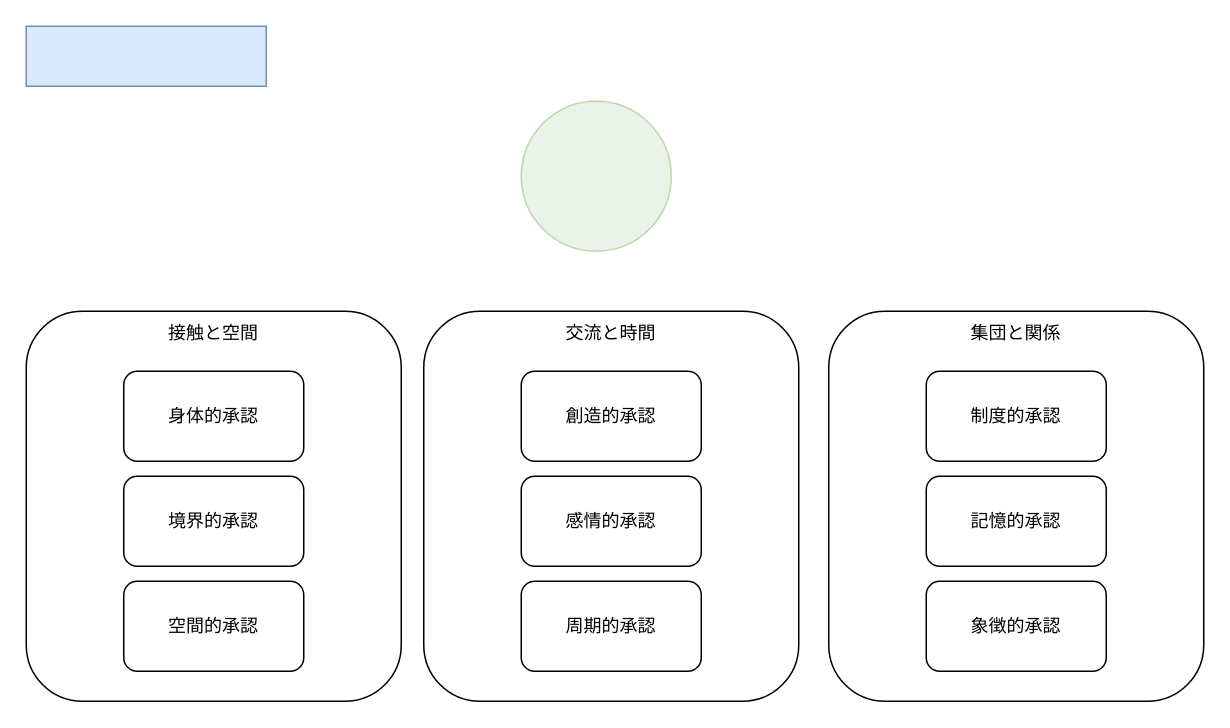
Image size: 1230x728. Some labels were removed from this diagram. Here are the shapes that lost their labels. From the top down, the centre of each, then its label:
At point (145, 55): "地図 ～承認欲求～".
At point (595, 175): "自身".
